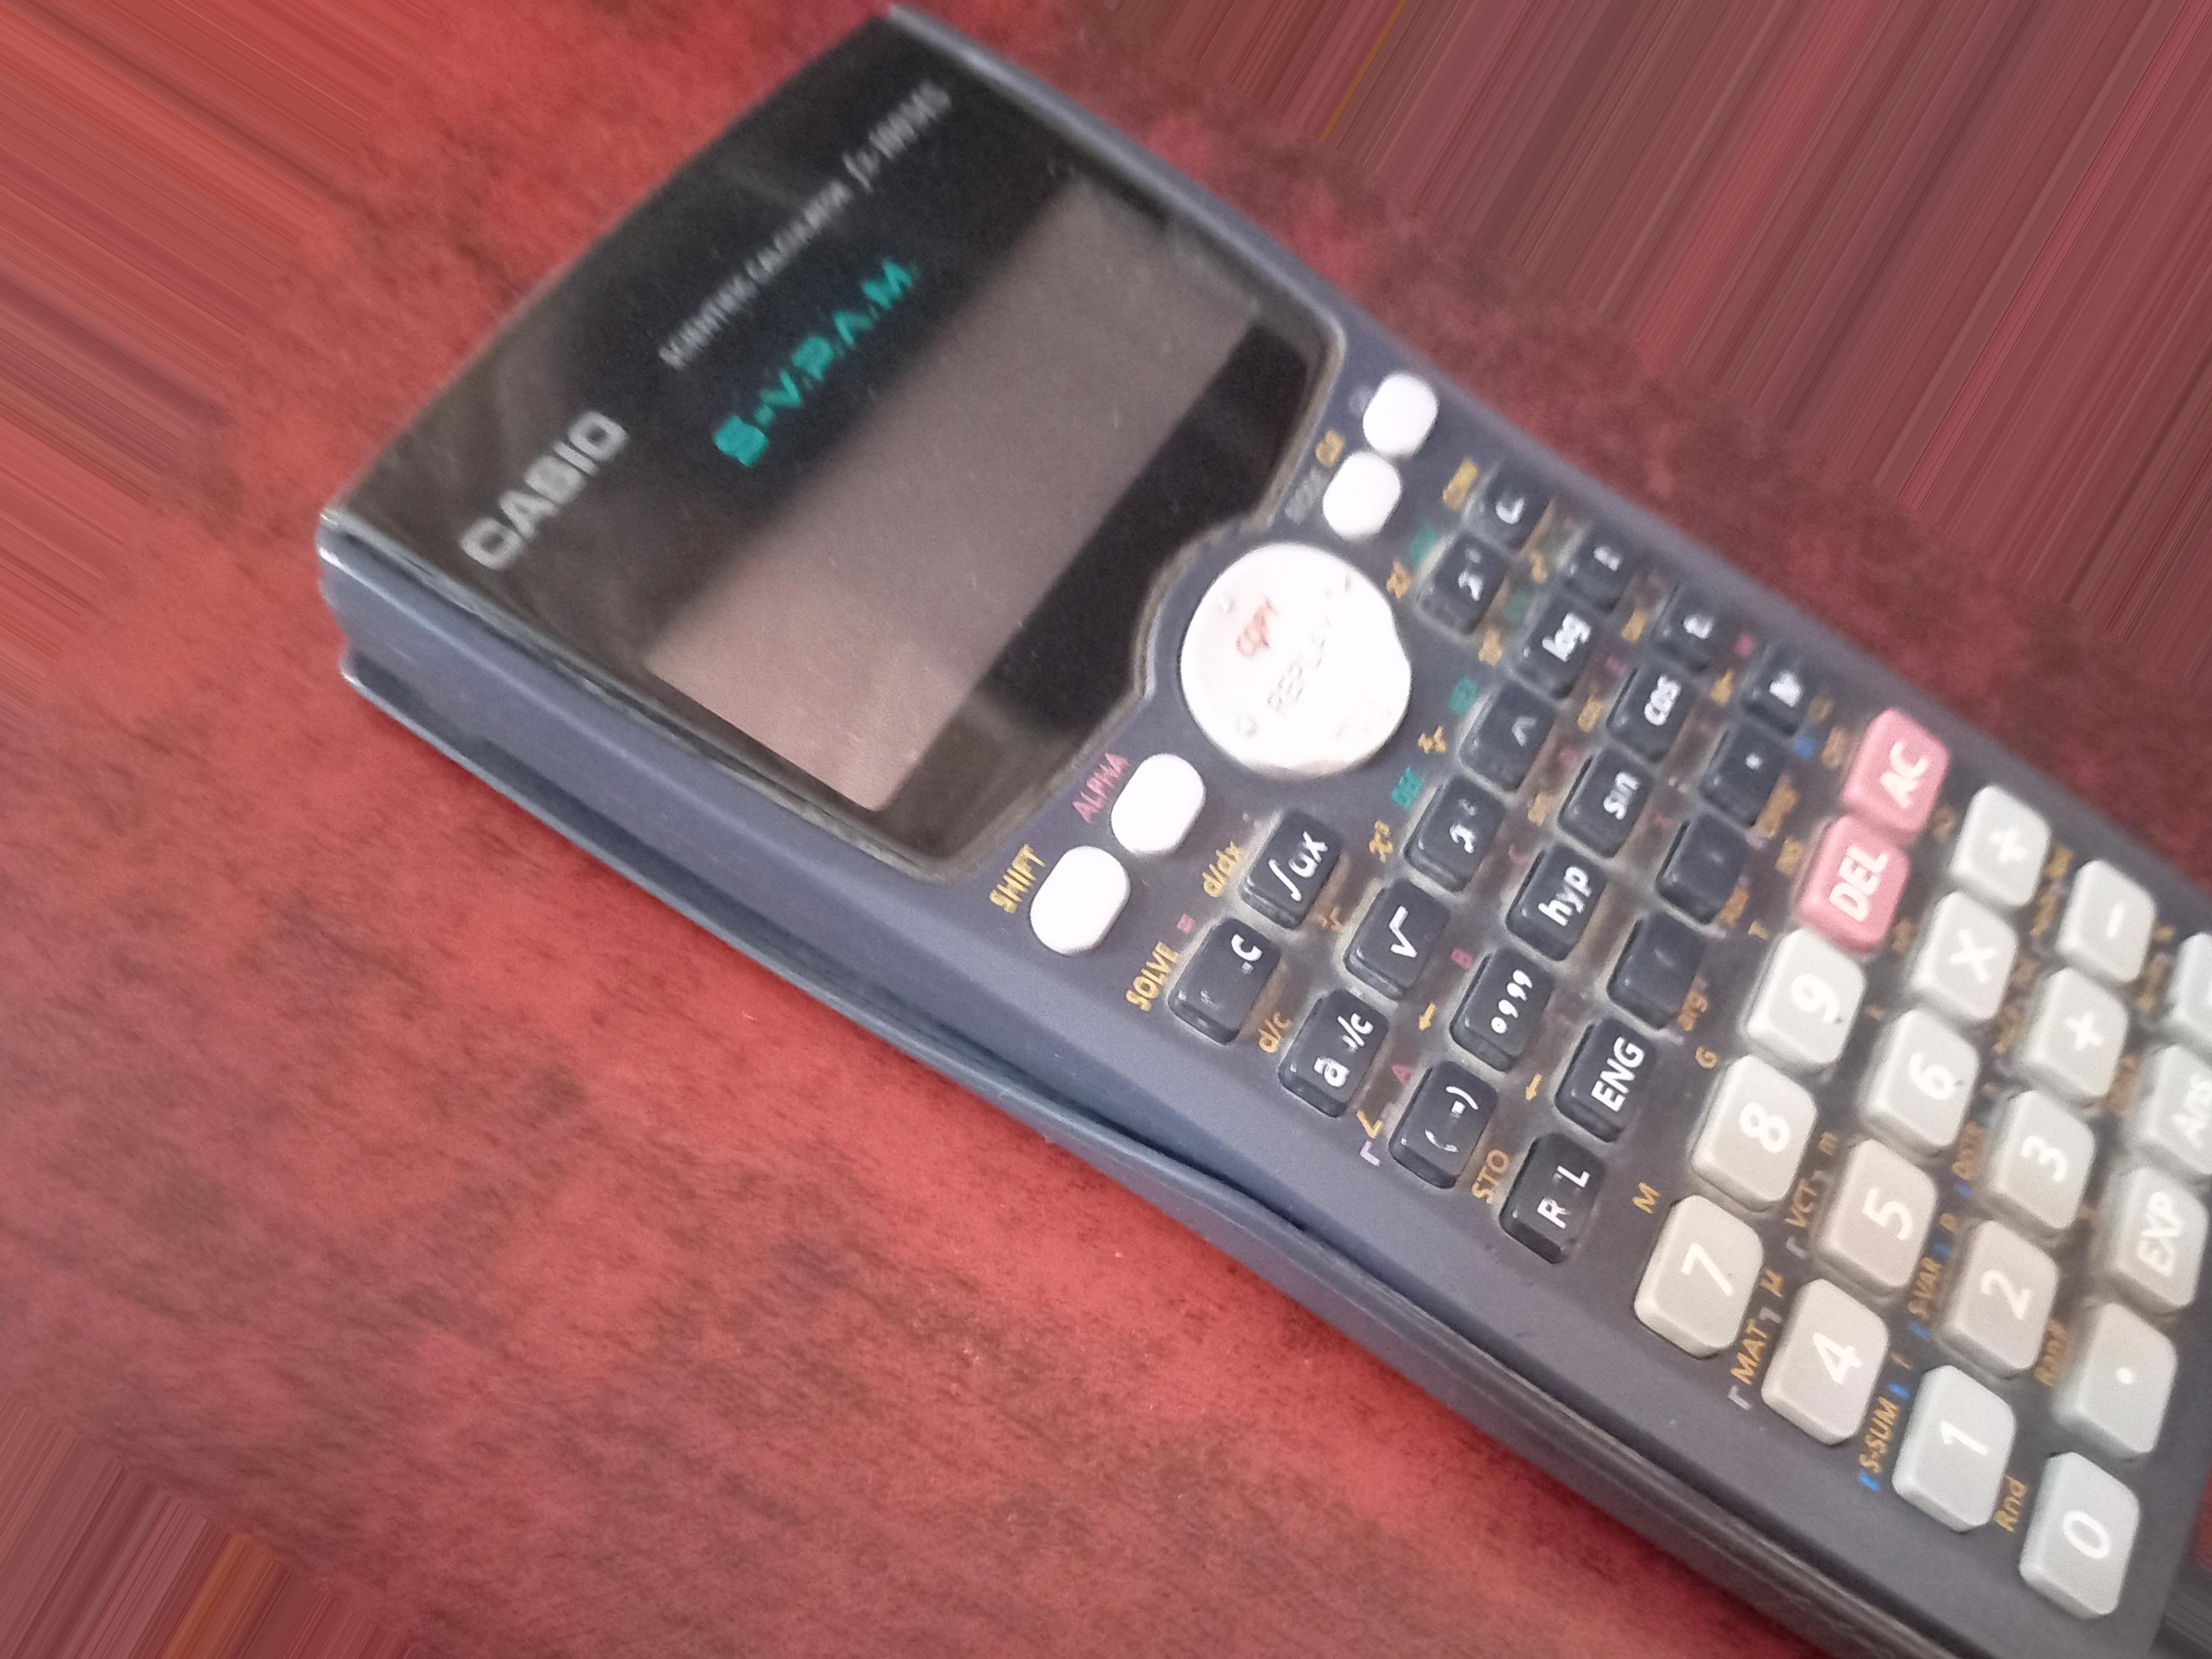calculator: (416, 120, 2212, 1659)
